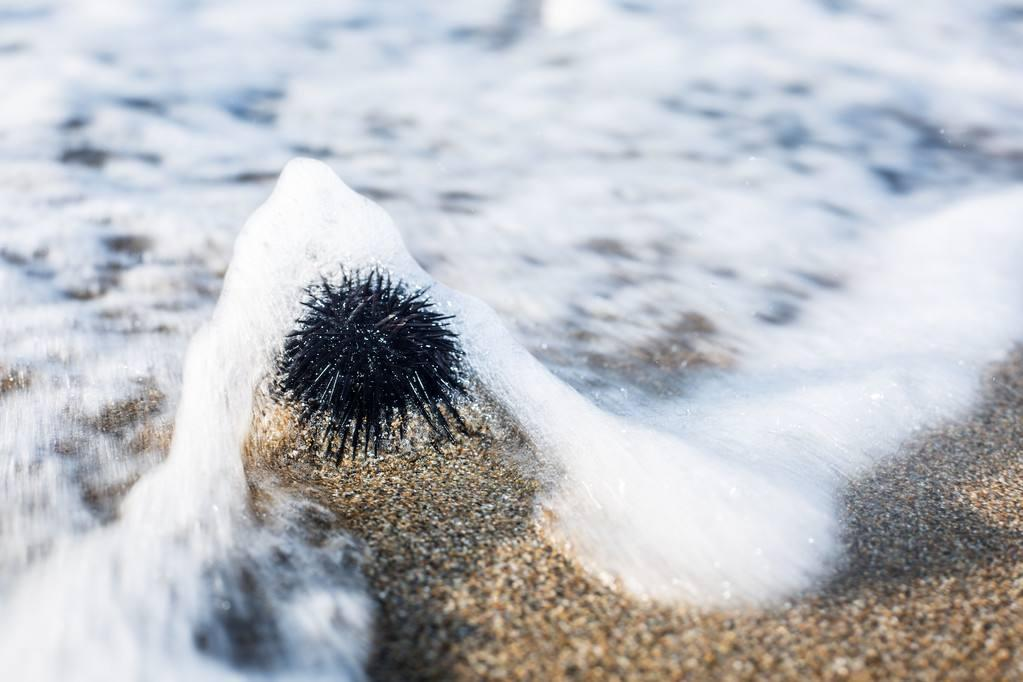urchin: (265, 259, 472, 474)
